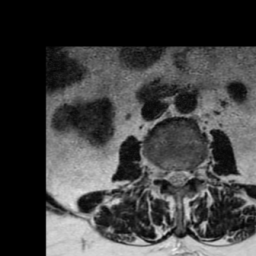CCS_normal: (174, 161, 181, 195)
LFS_normal: (190, 159, 198, 186)
LLS_normal: (181, 160, 190, 190)
RFS_normal: (156, 157, 165, 187)
RLS_normal: (165, 160, 174, 192)
